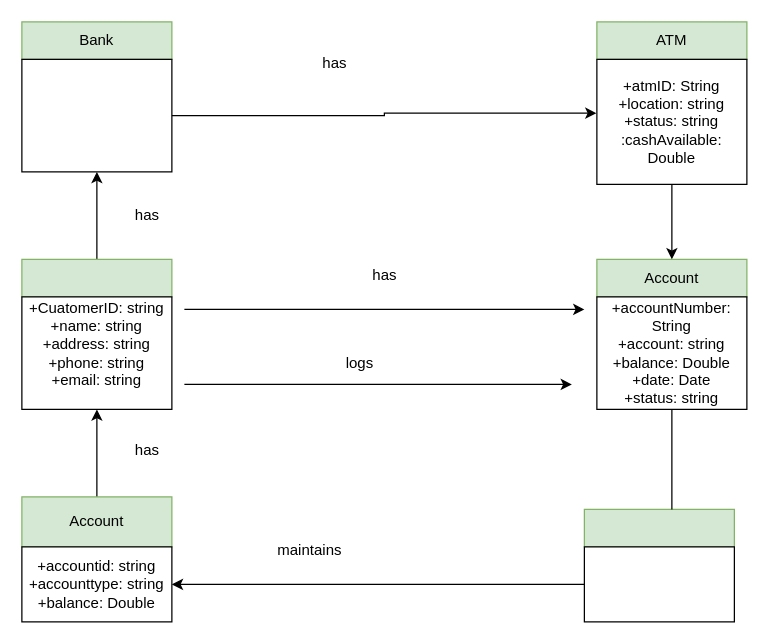
Image size: 769x644. Some labels were removed from this diagram. The shapes that lost their labels are listed below. From the top down, each one's box as (x1, y1, x2, y2) in pixels, then its label:
(21, 58, 172, 172): +bankID: string +name: string +address: string +phone: string +ifscCode: string
(21, 258, 172, 297): Customer
(583, 508, 734, 547): ATM Technician
(583, 546, 734, 622): +technicianID: string +name: string +contact: string
